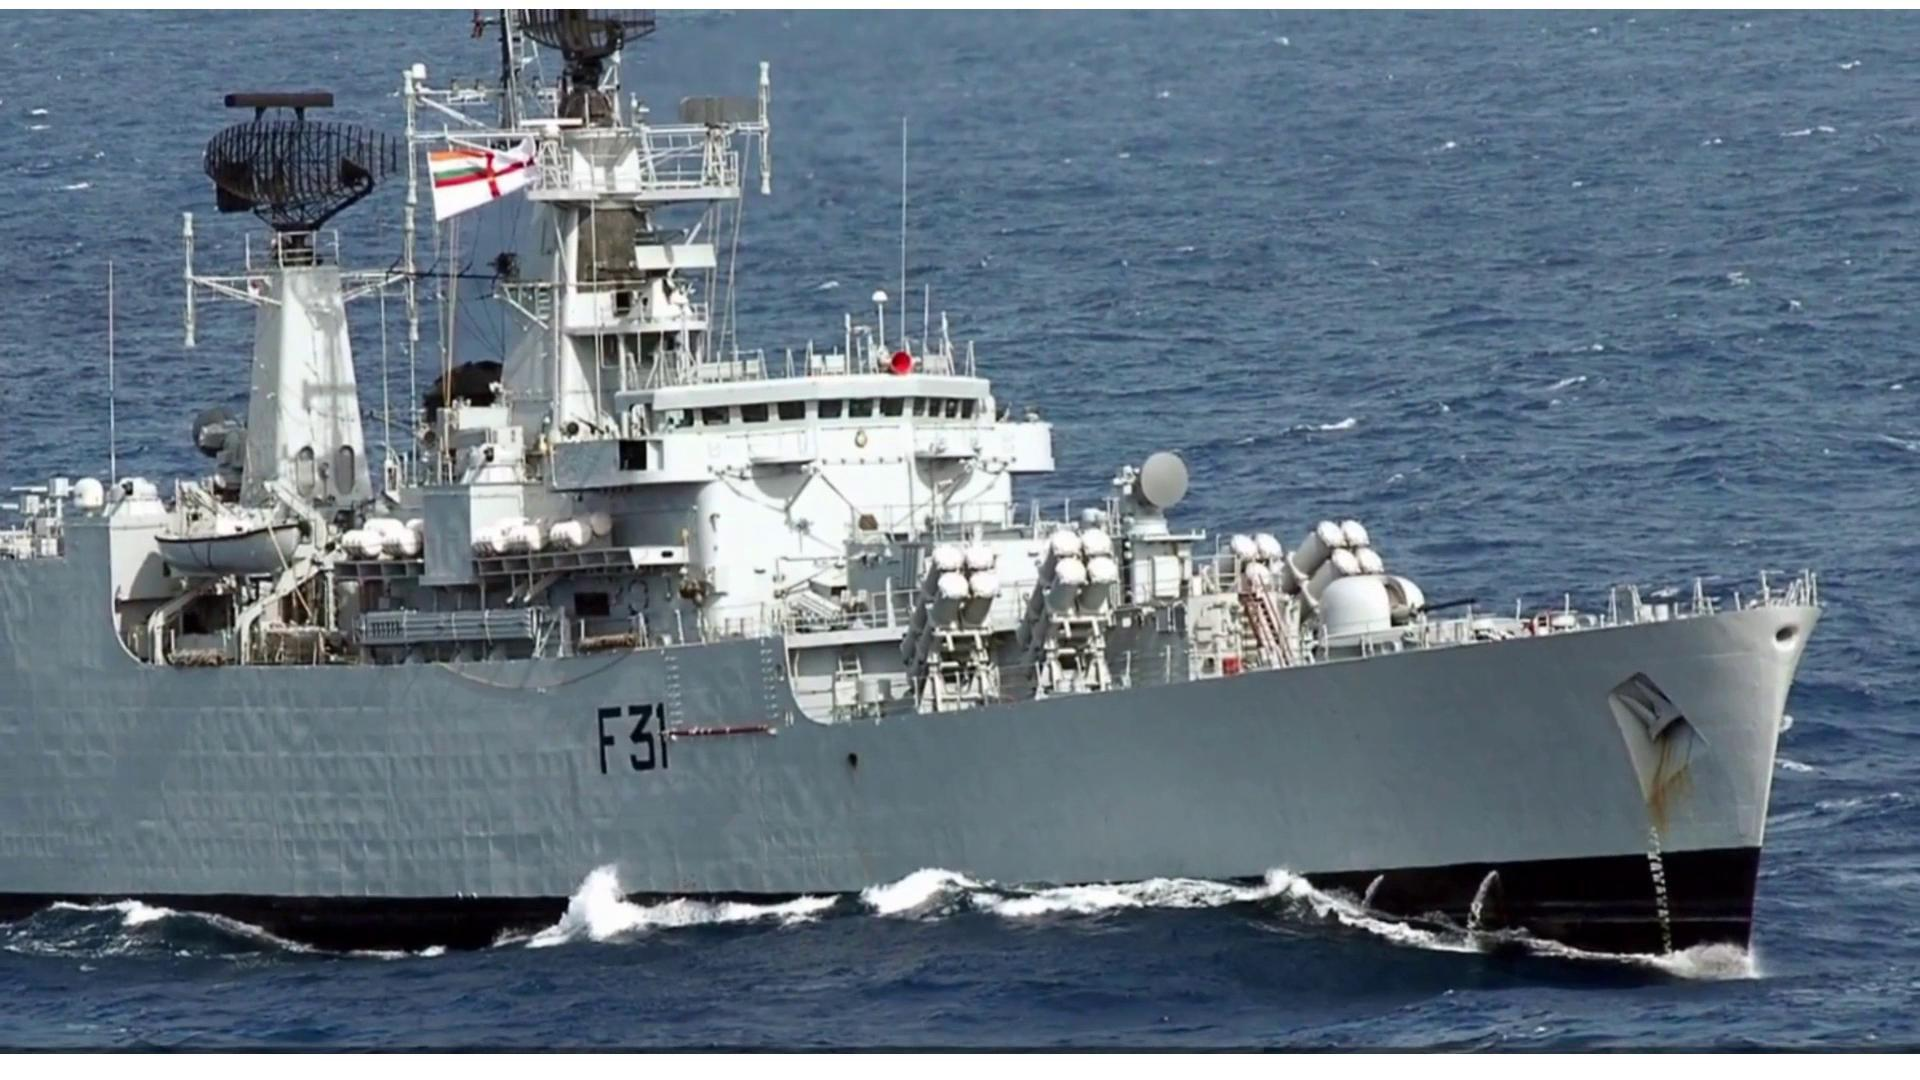OCR: (573, 689, 671, 788)
